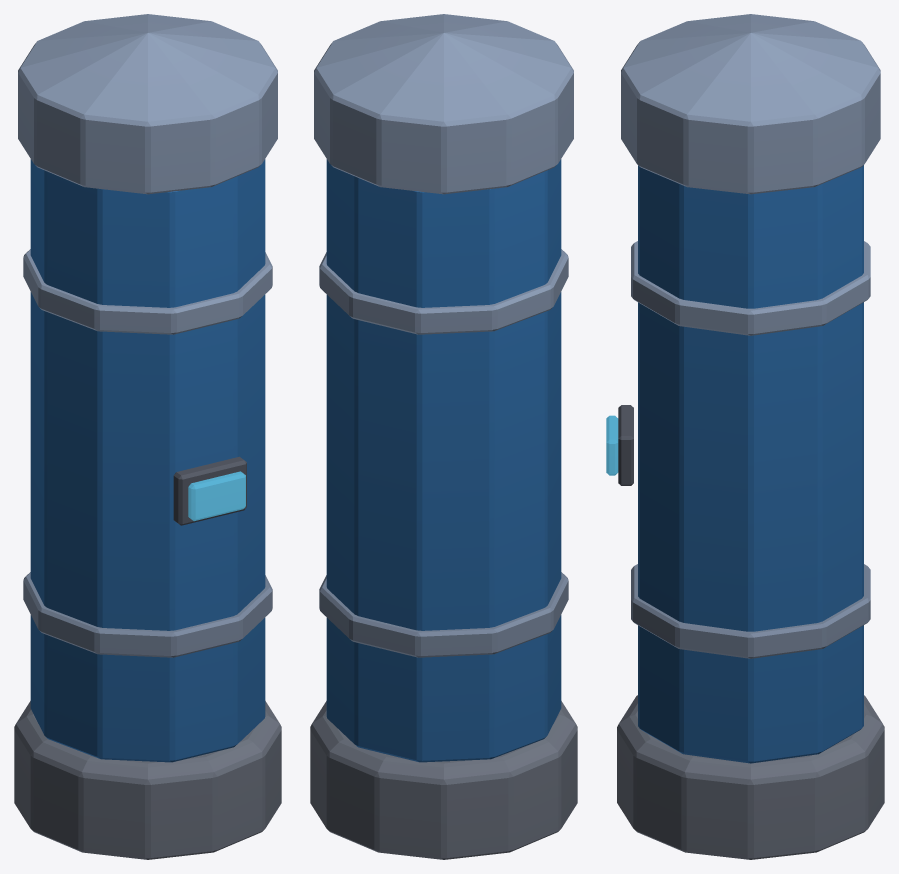
The model's file is cryo_pod.glb.
The picture shows the model from 3 angles, left to right: view 1: azimuth 30°, elevation 25°; view 2: azimuth 150°, elevation 25°; view 3: azimuth 270°, elevation 25°; orthographic projection.
Parts seen in each view (by area): view 1: cryo_pod; view 2: cryo_pod; view 3: cryo_pod.
Part boxes in pixels (x1,y1,x2,y2): cryo_pod: (14,14,281,859); cryo_pod: (310,14,577,859); cryo_pod: (606,14,884,859).
Bounding box in the file's own units: 0.6759 × 2.15 × 0.7029.
Materials: 2 (2 with a texture image).
